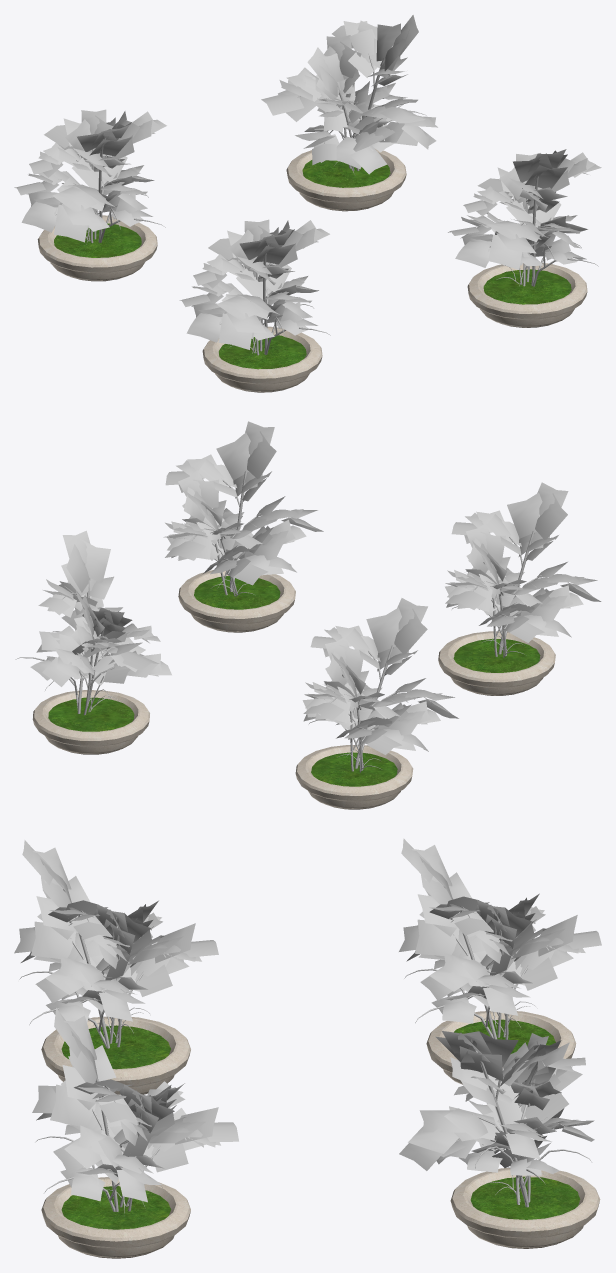
Rendered from Chaucay.fbx.
3 renders of one model, top to bottom at view 1: azimuth 30°, elevation 25°; view 2: azimuth 150°, elevation 25°; view 3: azimuth 270°, elevation 25°, orthographic. The views are drawn at different scales.
Parts seen in each view (by area): view 1: chau_2, chau_3, chau_4, chau_1; view 2: chau_4, chau_1, chau_3, chau_2; view 3: chau_2, chau_1, chau_4, chau_3.
Part boxes in pixels (x1,y1,x2,y2): chau_2: (261, 15, 437, 211); chau_3: (14, 109, 166, 281); chau_4: (179, 219, 330, 392); chau_1: (448, 149, 601, 327); chau_4: (438, 482, 601, 695); chau_1: (163, 421, 323, 632); chau_3: (295, 598, 458, 809); chau_2: (15, 530, 171, 754); chau_2: (399, 1031, 600, 1248); chau_1: (32, 1008, 238, 1258); chau_4: (14, 840, 218, 1094); chau_3: (399, 838, 601, 1084).
Bounding box in the file's own units: 825 × 341 × 801.
